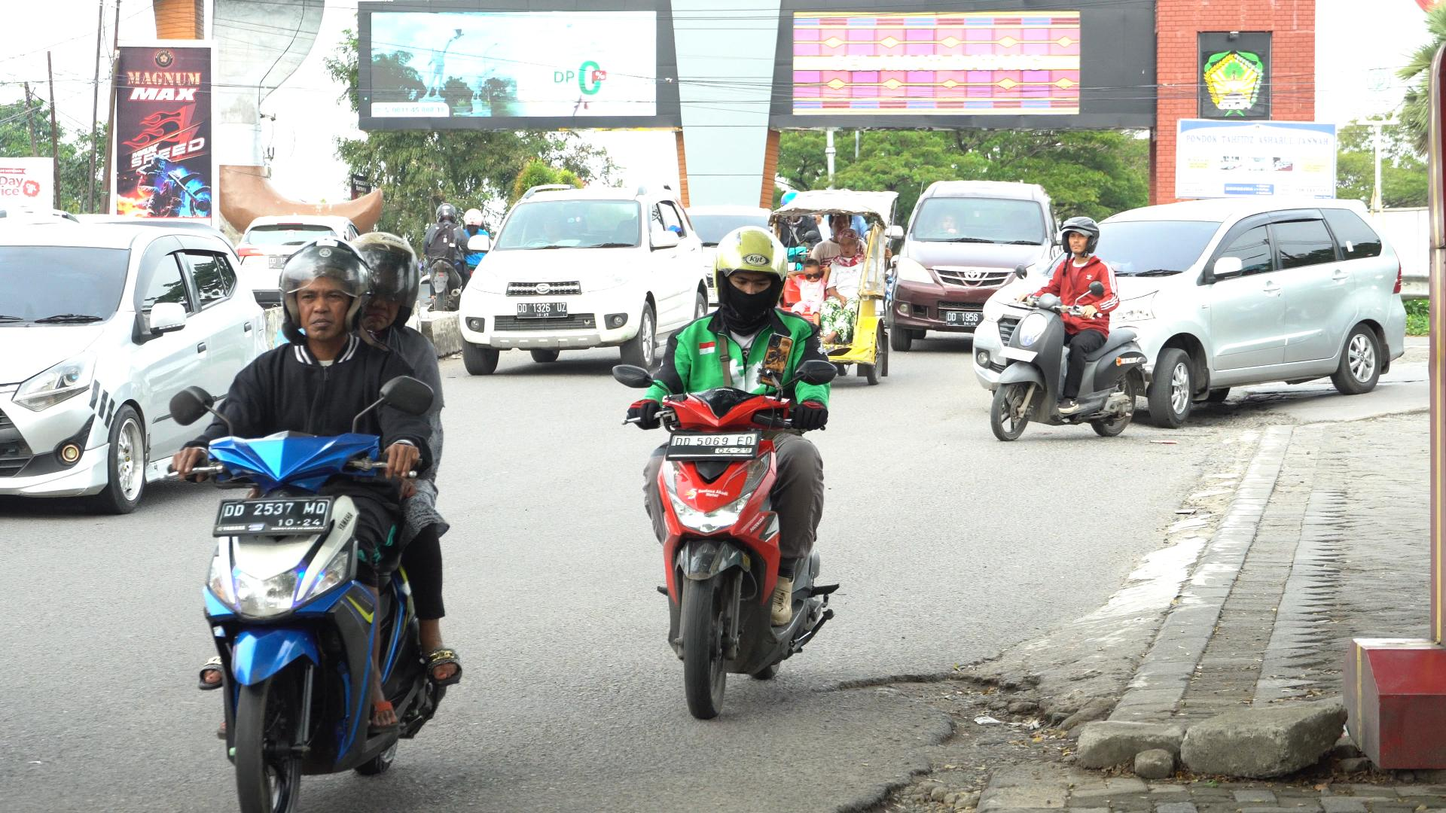number-plate: (211, 500, 335, 535), (658, 429, 758, 460)
